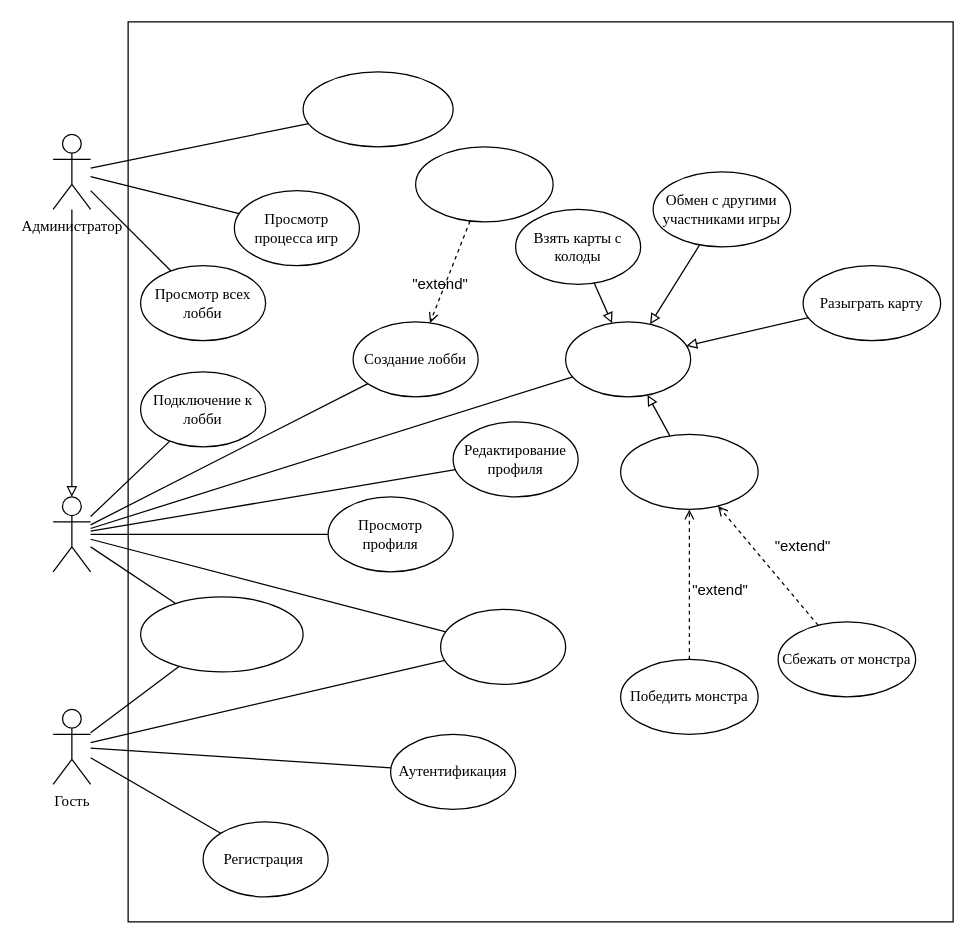
The diagram is 975 pixels wide and 944 high, and some of its shapes have lost their labels. Each missing label, with the centre of its shape:
"Вступить в бой с монстром" goes at (688,471).
"Выгнать участника из своего лобби" goes at (483,184).
"Клиент" goes at (71,534).
"Просмотр открытых игровых лобби" goes at (221,634).
"Просмотр правил игры" goes at (502,646).
"Удаление профилей клиентов" goes at (377,109).
"Участие в процессе игры" goes at (627,359).
